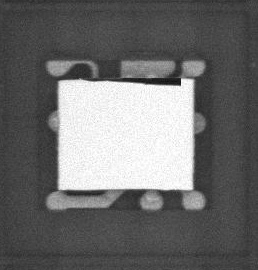DIE_BROKEN: (86, 74, 184, 88)
